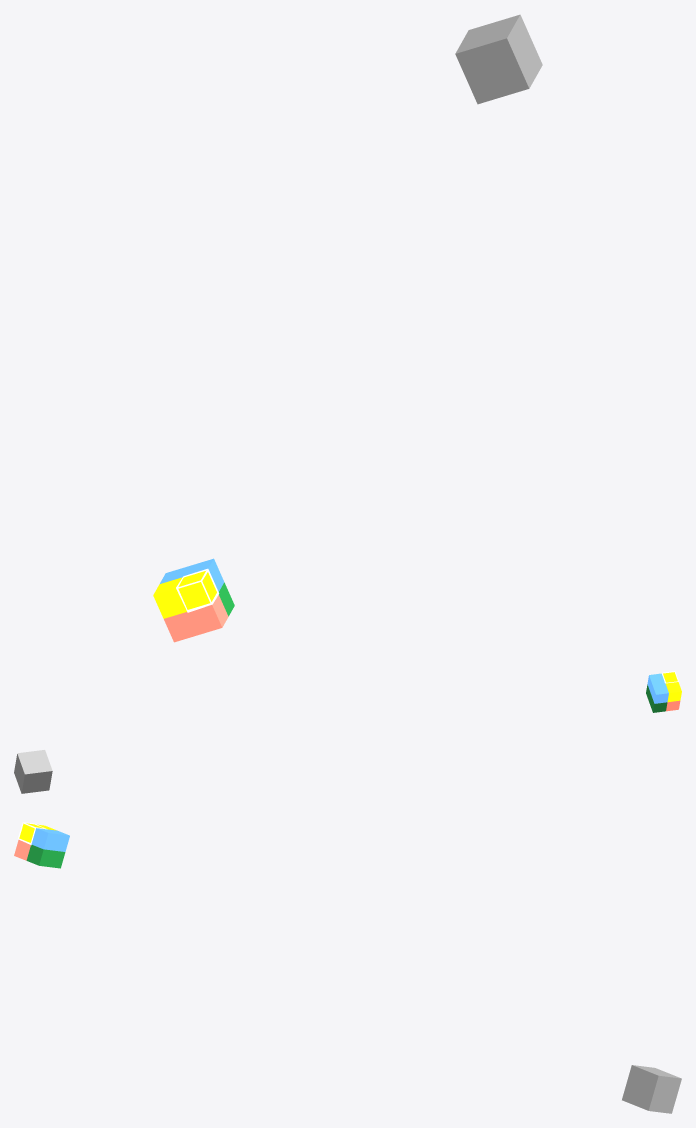
Rendered from bricks_three.glb.
3 renders of one model, top to bottom at view 1: azimuth 30°, elevation 25°; view 2: azimuth 150°, elevation 25°; view 3: azimuth 270°, elevation 25°, orthographic. The views are drawn at different scales.
Visible parts, largest first — view 1: Cube.009, Cube.006; view 2: Cube.009, Cube.004, Cube.002; view 3: Cube.009, Cube.008.
Part boxes in pixels (x1,y1,x2,y2): Cube.009: (455,14,542,104); Cube.006: (176,568,219,612); Cube.009: (14,750,52,793); Cube.004: (651,683,668,703); Cube.002: (665,682,681,702); Cube.009: (622,1065,681,1113); Cube.008: (31,828,59,850).
Bounding box in the file's own units: 34.36 × 2.63 × 36.13.
